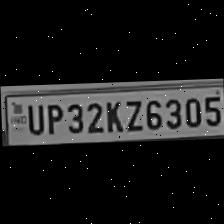0: (182, 93, 200, 127)
2: (83, 98, 103, 134)
3: (62, 99, 82, 134), (162, 94, 180, 130)
5: (200, 92, 222, 127)
6: (142, 95, 160, 130)
K: (101, 97, 121, 133)
P: (42, 99, 62, 135)
U: (20, 100, 42, 136)
Z: (120, 96, 142, 132)
